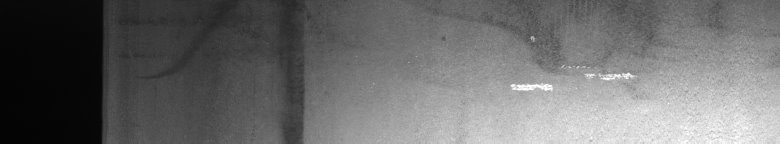hc: (442, 16, 637, 96)
